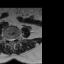CCS_severe_stenosis: (11, 36, 12, 43)
LFS_stenosis: (14, 36, 16, 41)
LLS_normal: (12, 36, 14, 42)
RFS_normal: (7, 36, 9, 42)
RLS_normal: (9, 37, 11, 42)
